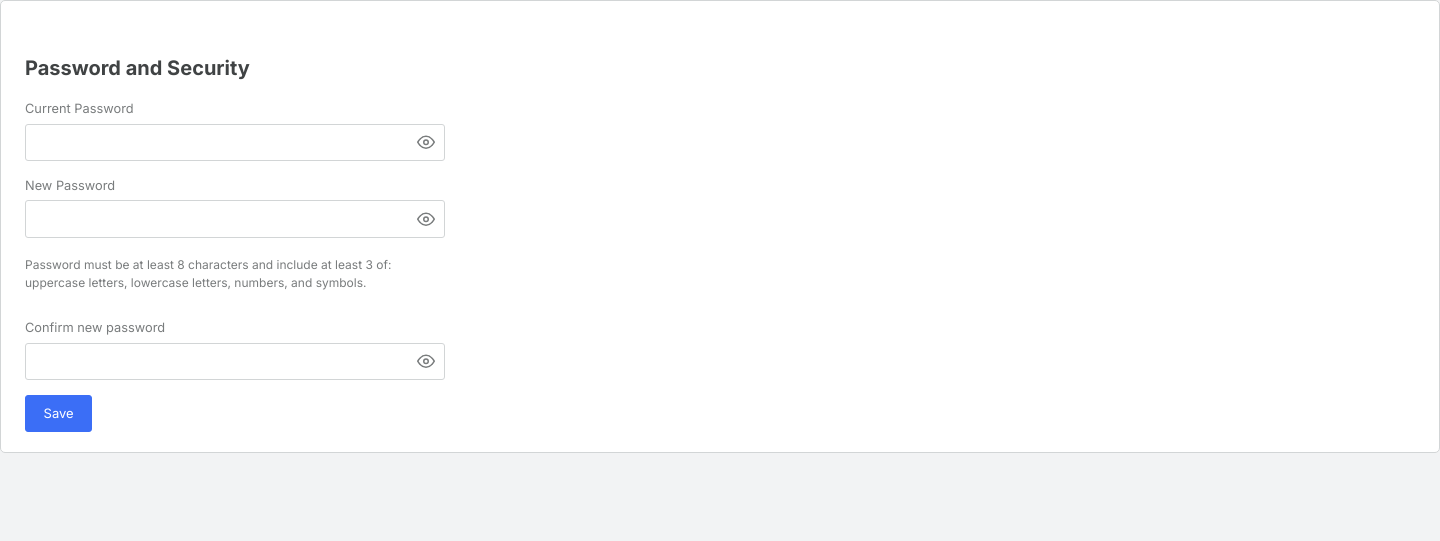
Test: PasswordSecurityPage › a successful password change clears the fields and shows a confirmation
Check: the heading "Password and Security" is shown, box [25,56,250,80]
Type "old password" into the password field labelled "Current Password" at (235, 143), box [25,124,445,161]
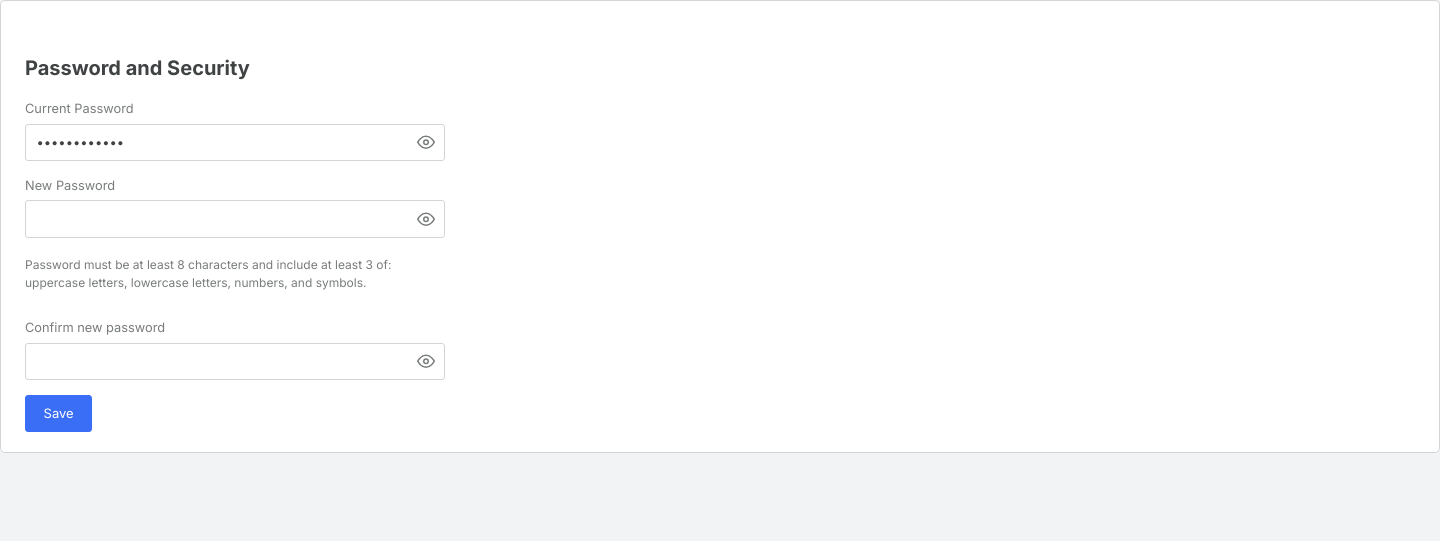
Type "Str0ng Passw0rd!" into the password field labelled "New Password" at (235, 219), box [25,200,445,238]
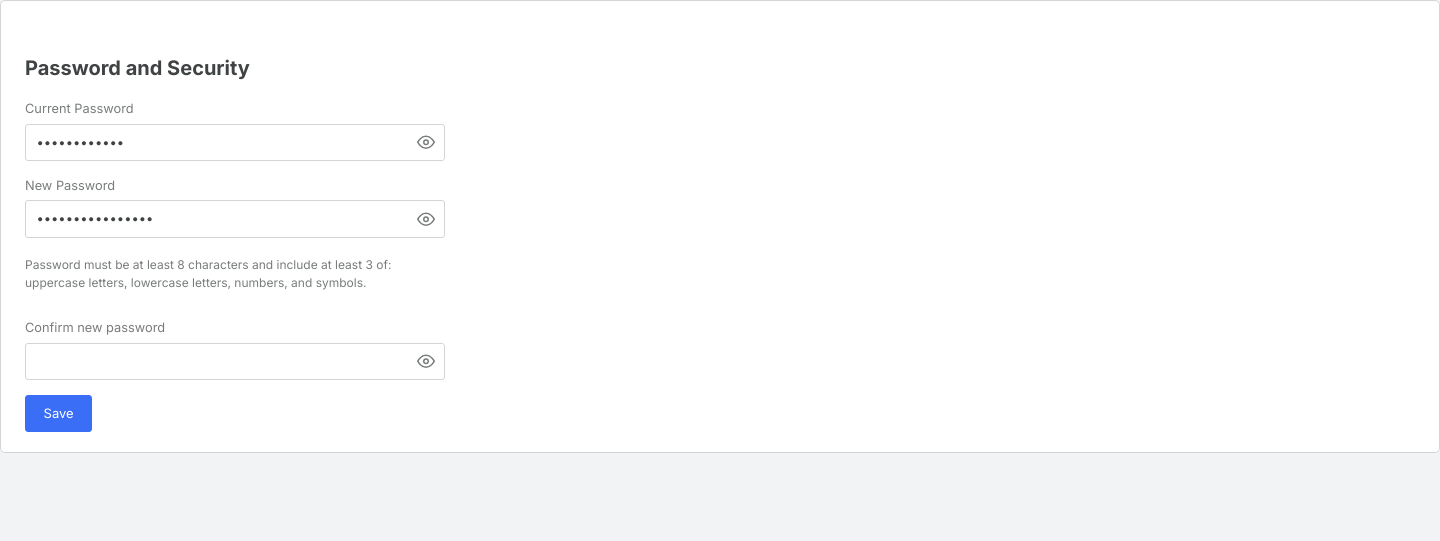
Type "Str0ng Passw0rd!" into the password field labelled "Confirm new password" at (235, 361), box [25,343,445,380]
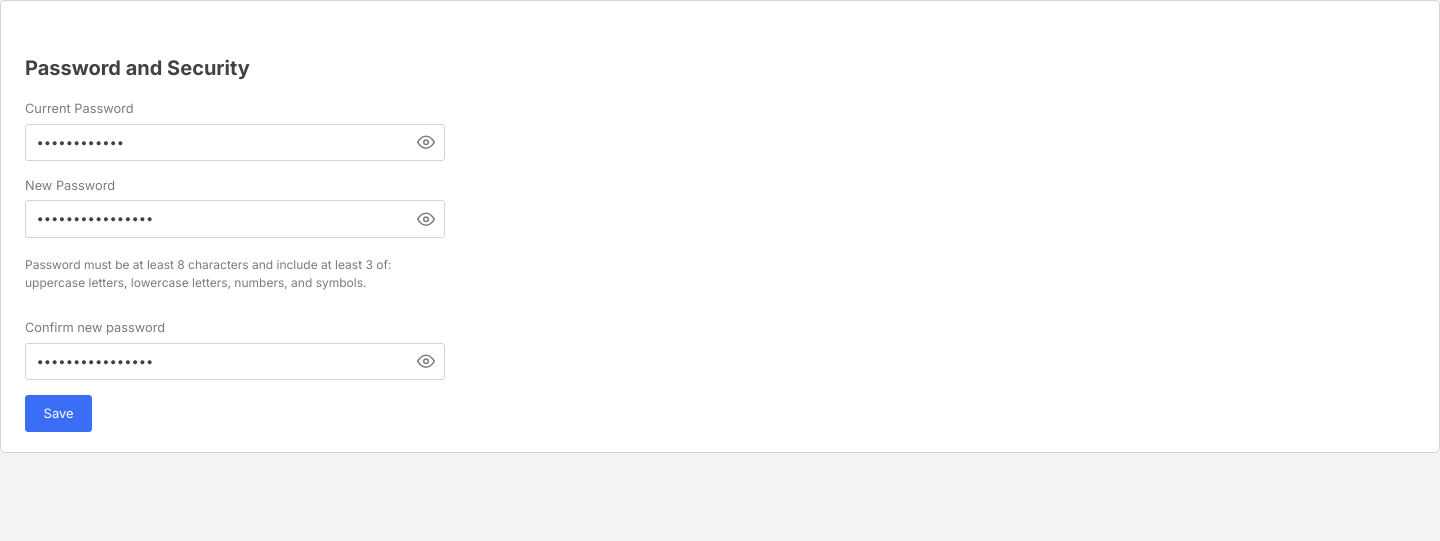
Click the button "Save" at (59, 413), box [25,395,92,432]
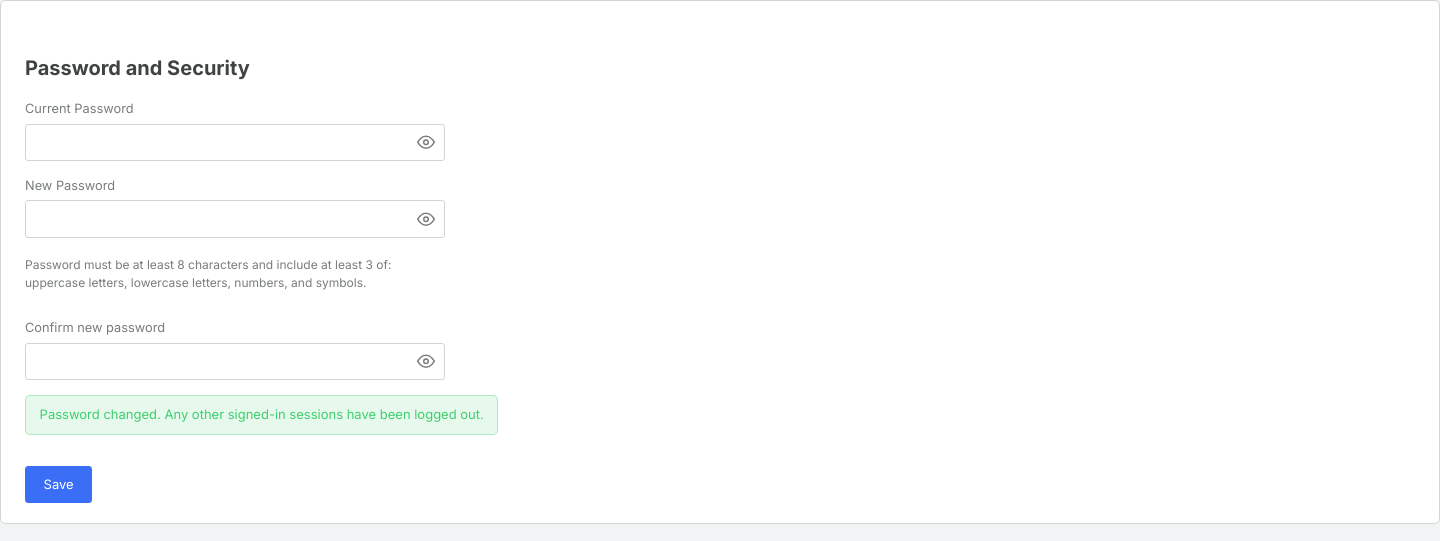
Check: the text "Password changed. Any other signed-in sessions have been logged out." is shown, box [25,395,498,435]
Check: the password field labelled "Current Password" is empty, box [25,124,445,161]
Check: the password field labelled "New Password" is empty, box [25,200,445,238]
